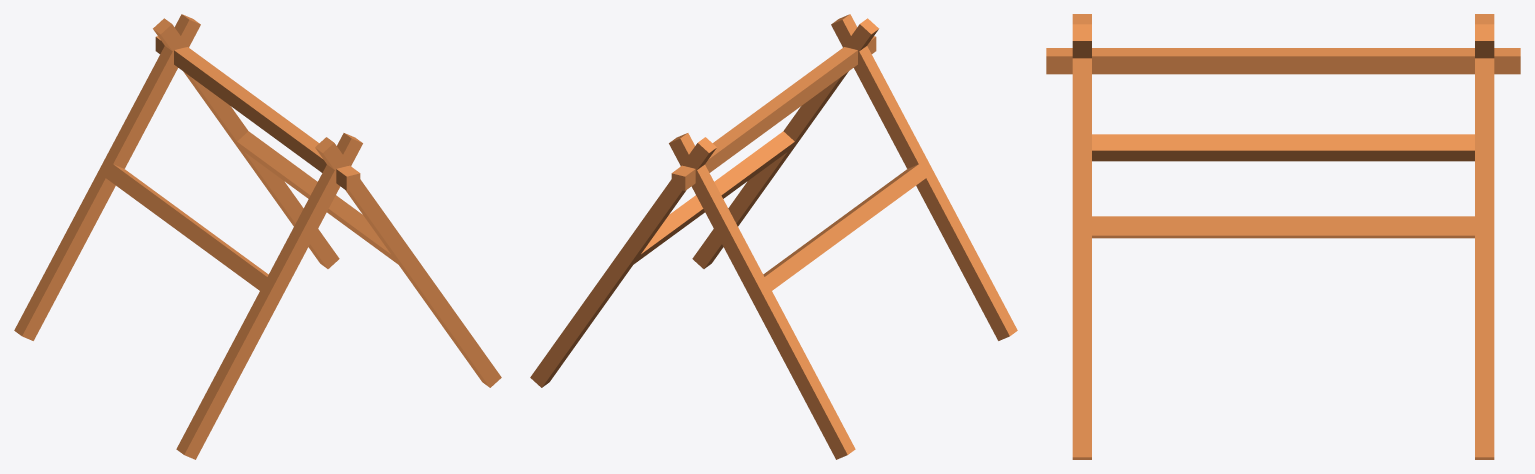
The model's file is tent.fbx.
3 views of the same model, side by side, from view 1: azimuth 30°, elevation 25°; view 2: azimuth 150°, elevation 25°; view 3: azimuth 270°, elevation 25° (orthographic). The views are drawn at different scales.
Visible parts, largest first — view 1: tent; view 2: tent; view 3: tent.
Part boxes in pixels (x1,y1,x2,y2): tent: (14,14,501,459); tent: (530,14,1017,459); tent: (1046,14,1520,459).
Size of the model in its own units: 5.39 by 4.6 by 5.62.
